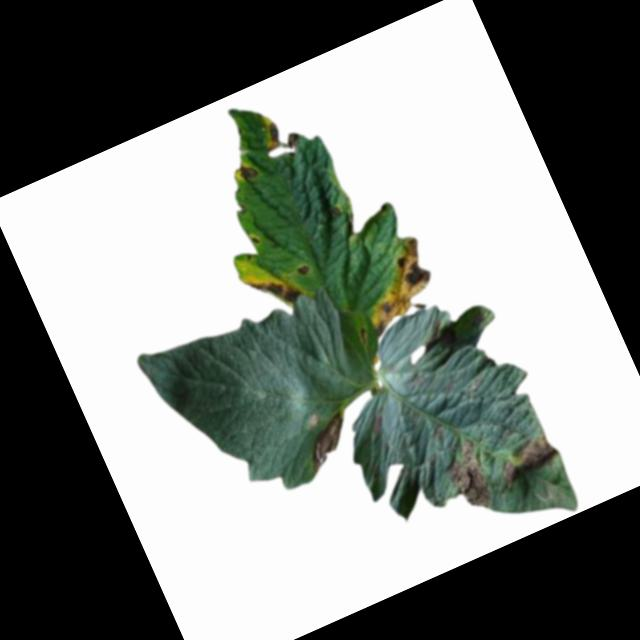Early_blight: (337, 235, 446, 341), (484, 424, 564, 490), (436, 434, 500, 516), (292, 406, 362, 477), (239, 262, 305, 320), (260, 111, 304, 156), (233, 157, 260, 185), (292, 258, 310, 278)
